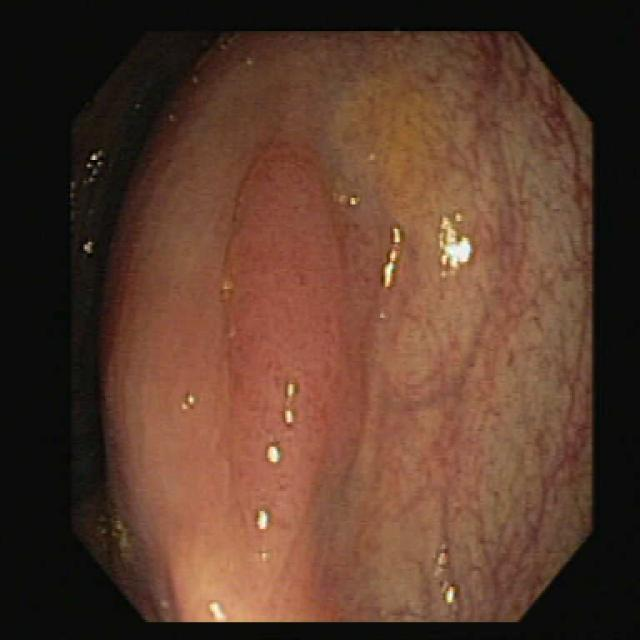tumor: (227, 149, 337, 580)
